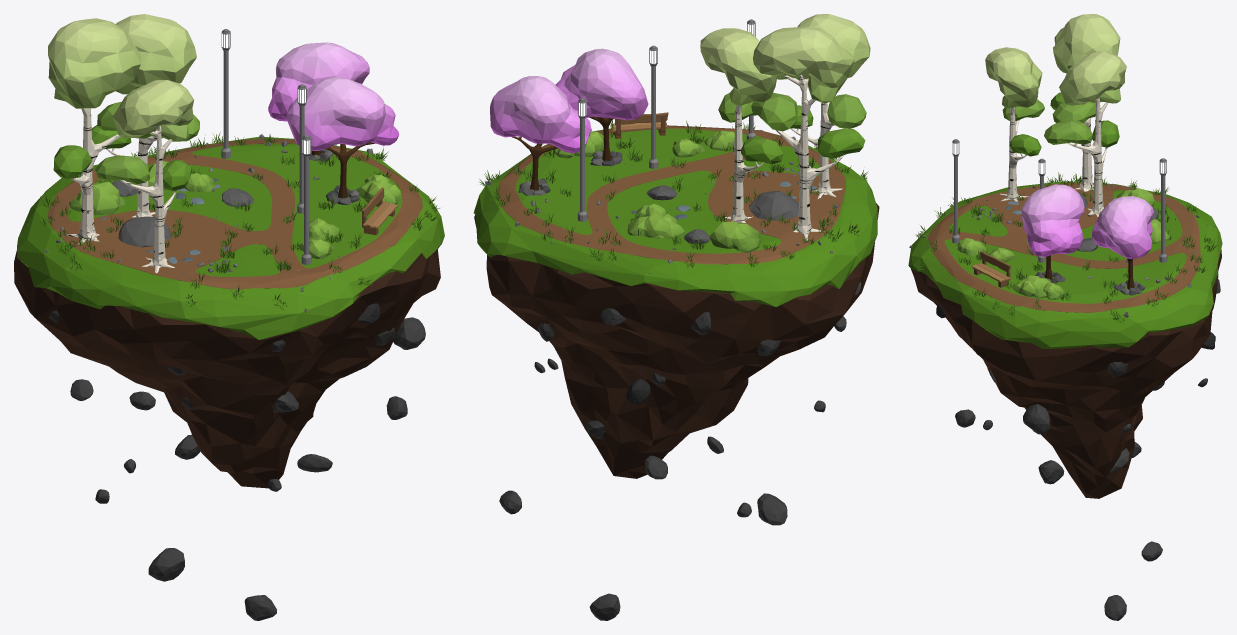
Rendered from floating island.glb.
3 views of the same model, side by side, from view 1: azimuth 30°, elevation 25°; view 2: azimuth 150°, elevation 25°; view 3: azimuth 270°, elevation 25° (orthographic). The views are drawn at different scales.
Visible parts, largest first — view 1: base.001, grass.001, path.004, tree.008, tree.007, tree.005, tree.009, Plane.023, tree.006, rock.046, bush.012, rock.072 (+6 smaller); view 2: base.001, grass.001, path.004, tree.008, tree.009, tree.006, tree.005, Plane.023, tree.007, bush.012, rock.046, bench.001 (+5 smaller); view 3: grass.001, base.001, path.004, tree.009, tree.007, tree.005, tree.008, tree.006, Plane.023, bench.001, rock.075, lamp.005 (+3 smaller).
Part boxes in pixels (box(x1,y1,x2,y2)): base.001: box(14, 249, 440, 488); grass.001: box(17, 137, 444, 339); path.004: box(47, 138, 422, 289); tree.008: box(48, 18, 150, 244); tree.007: box(95, 80, 193, 273); tree.005: box(286, 77, 399, 205); tree.009: box(91, 14, 199, 217); Plane.023: box(38, 132, 439, 312); tree.006: box(268, 42, 369, 161); rock.046: box(118, 216, 170, 247); bush.012: box(69, 181, 119, 215); rock.072: box(148, 548, 184, 581); base.001: box(474, 203, 879, 478); grass.001: box(473, 128, 877, 306); path.004: box(498, 125, 845, 264); tree.008: box(751, 26, 865, 240); tree.009: box(700, 28, 783, 222); tree.006: box(490, 76, 591, 195); tree.005: box(555, 48, 648, 166); Plane.023: box(479, 120, 868, 273); tree.007: box(790, 14, 870, 198); bush.012: box(710, 221, 760, 252); rock.046: box(749, 190, 798, 220); bench.001: box(612, 112, 668, 138); grass.001: box(908, 181, 1222, 348); base.001: box(911, 249, 1221, 498); path.004: box(927, 182, 1200, 312); tree.009: box(1044, 51, 1126, 216); tree.007: box(985, 47, 1044, 201); tree.005: box(1021, 184, 1084, 283); tree.008: box(1050, 14, 1120, 191); tree.006: box(1092, 196, 1153, 295); Plane.023: box(909, 172, 1218, 323); bench.001: box(972, 251, 1010, 287); rock.075: box(1023, 404, 1049, 434); lamp.005: box(1159, 158, 1167, 262).
Bounding box in the file's own units: 21.24 × 35.82 × 19.41.
3 materials, 2 textured.
